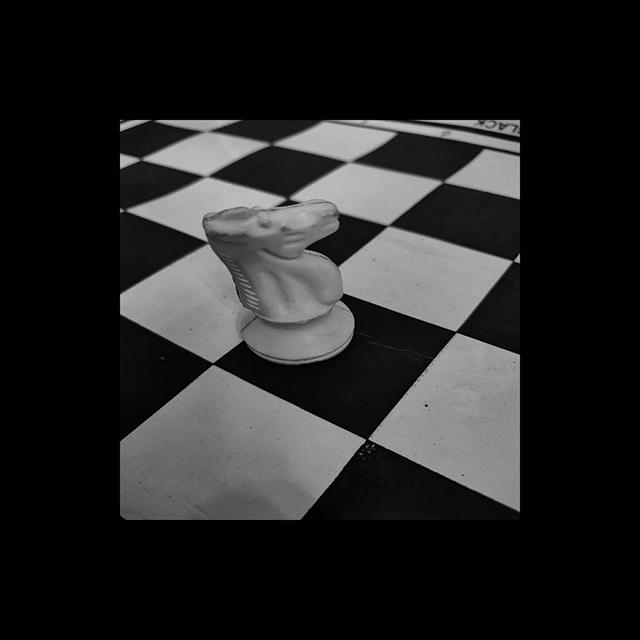white-knight: (201, 198, 359, 364)
